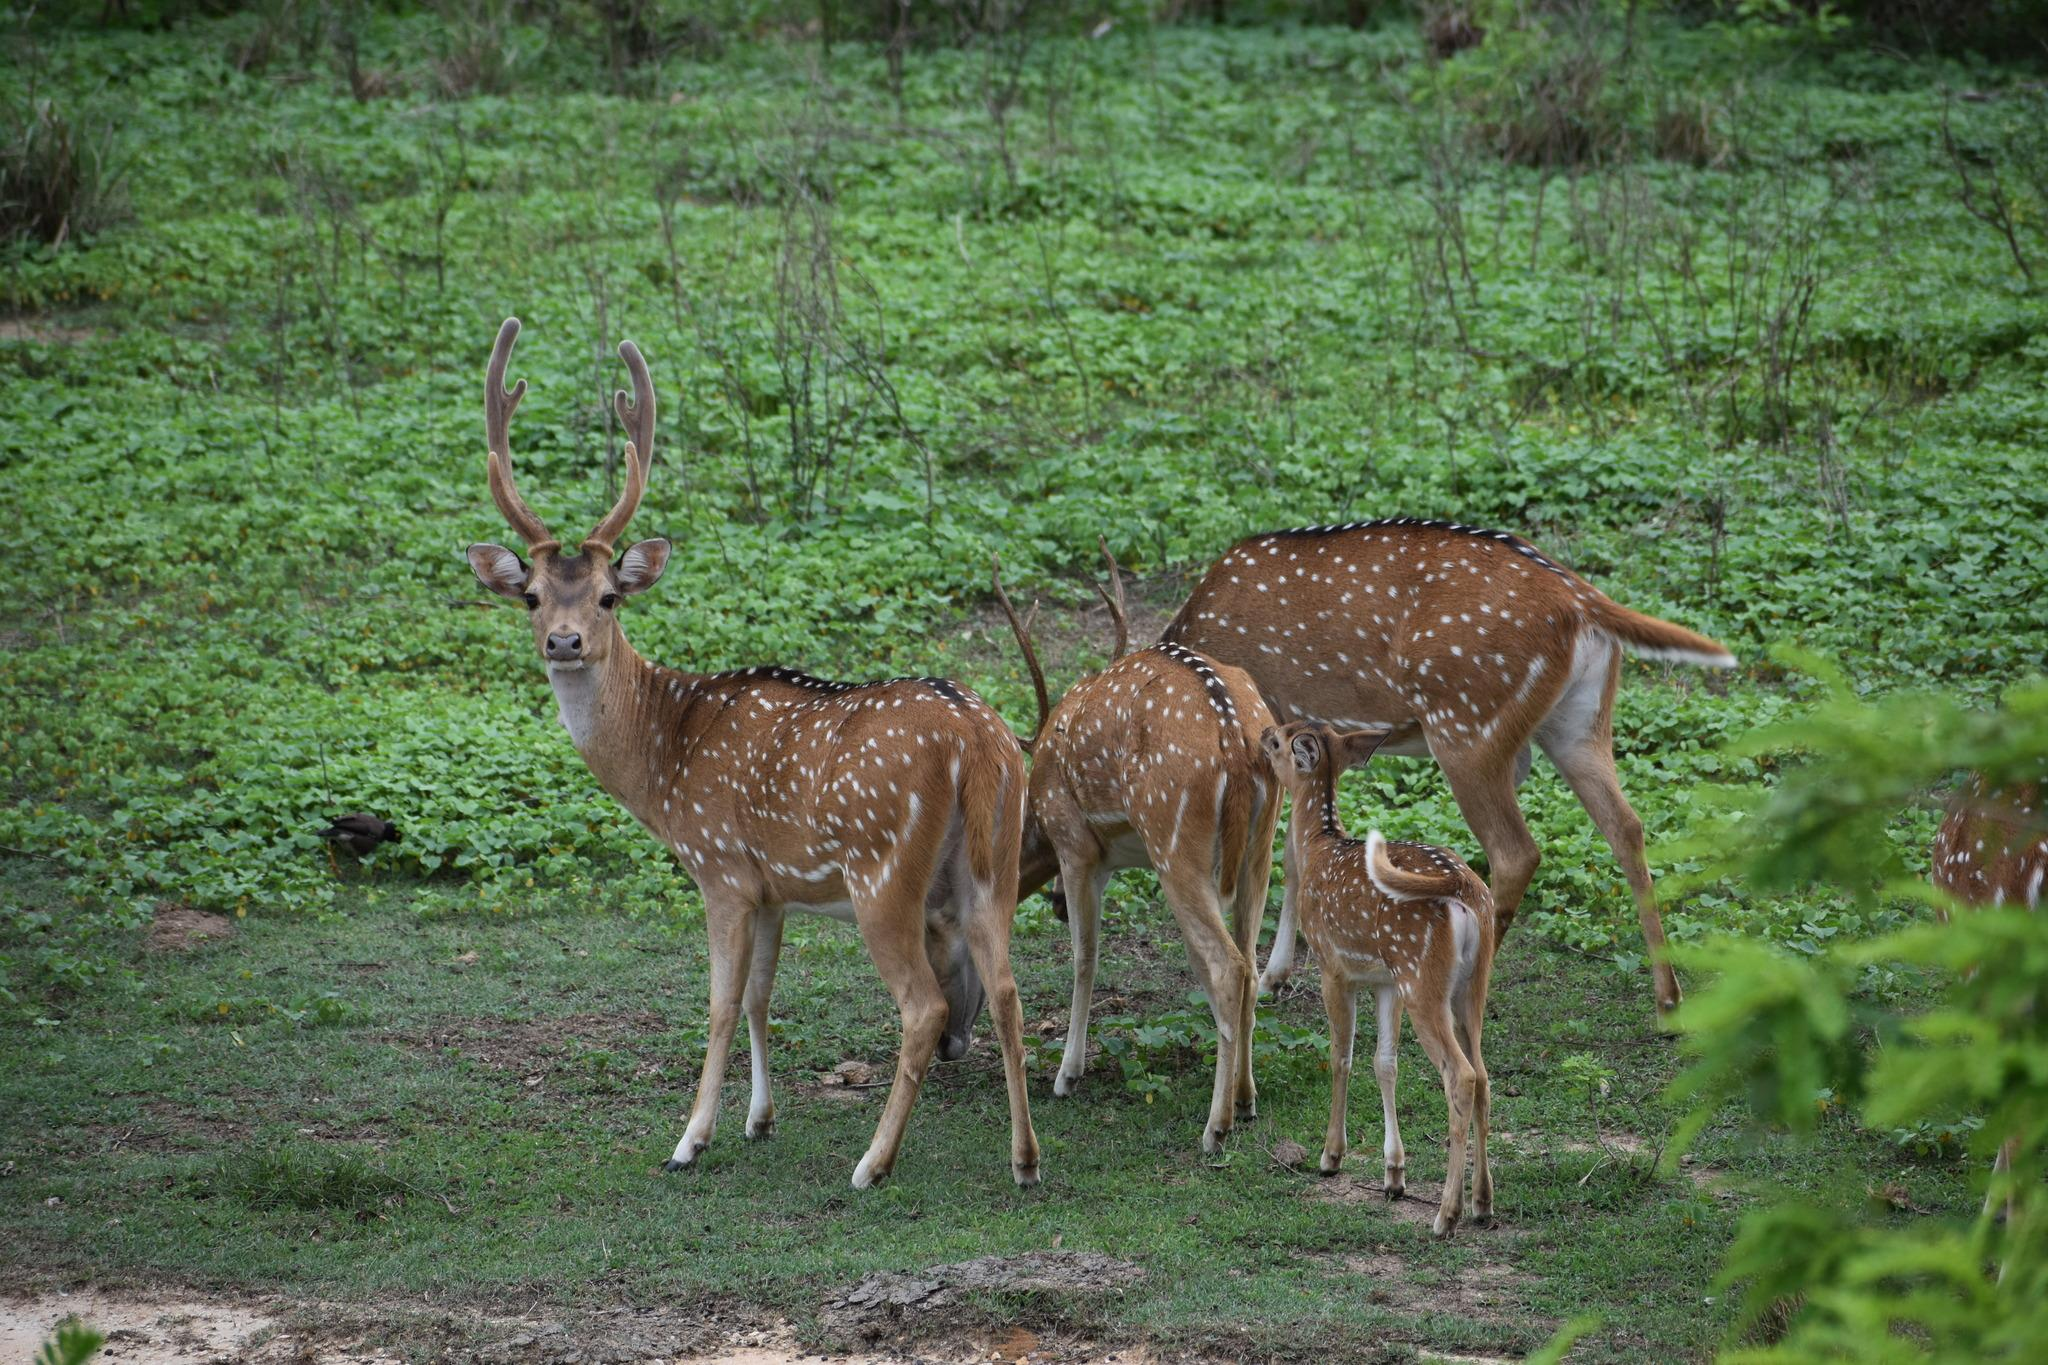Deer: (467, 318, 1038, 1188), (1163, 519, 1734, 949), (1026, 638, 1279, 1150), (1265, 724, 1495, 1232)
